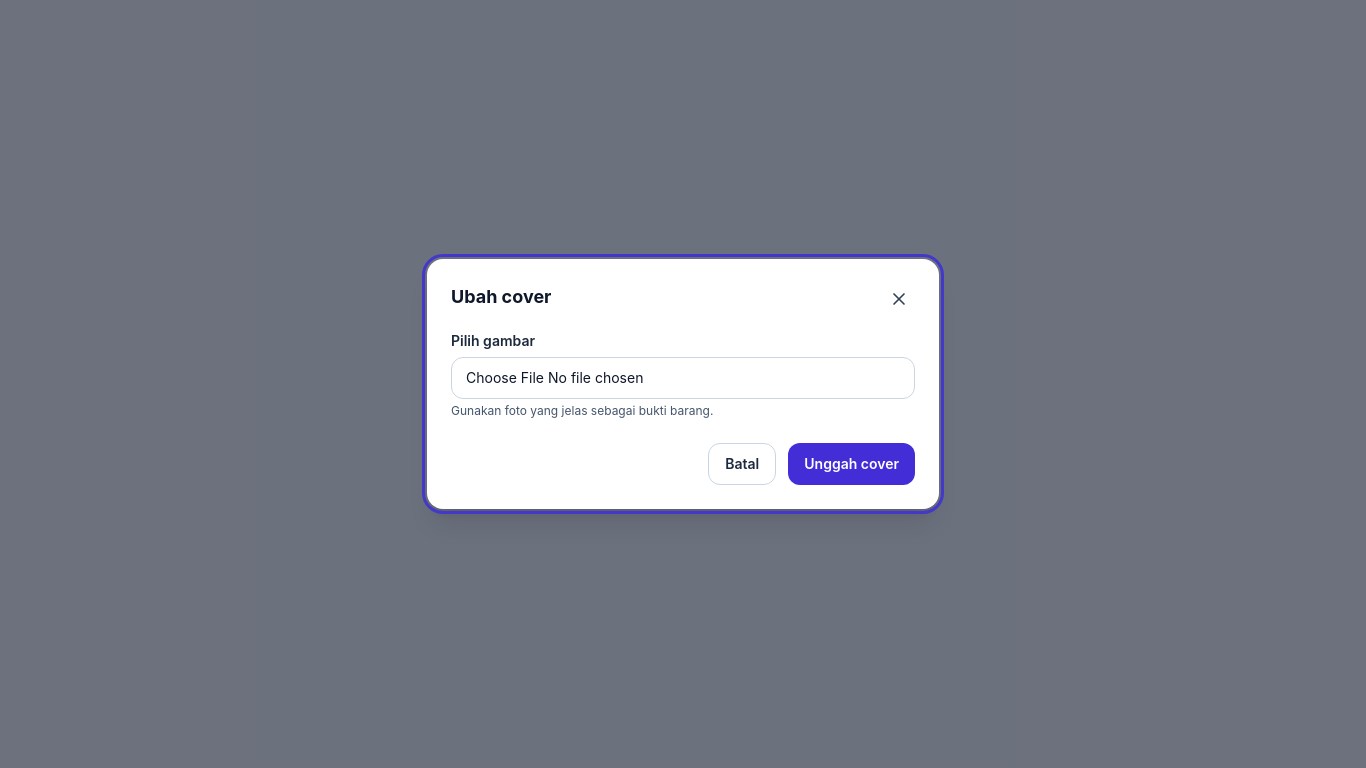
Test: ChangeCoverModal › meminta gambar bila belum dipilih
Click the button "Unggah cover".
click(852, 464)  # box x1=788 y1=443 x2=915 y2=485
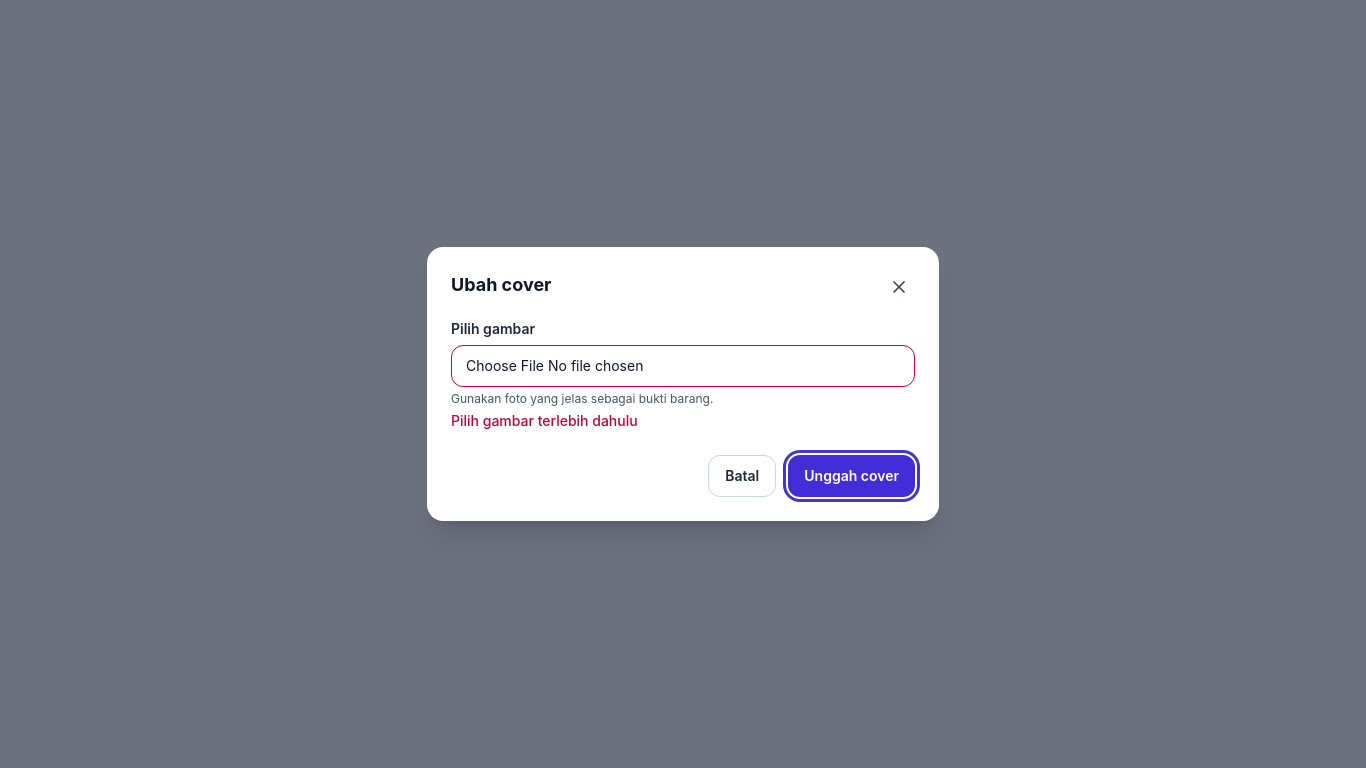
Check: the text "Pilih gambar terlebih dahulu" is shown, box x1=451 y1=412 x2=638 y2=429
